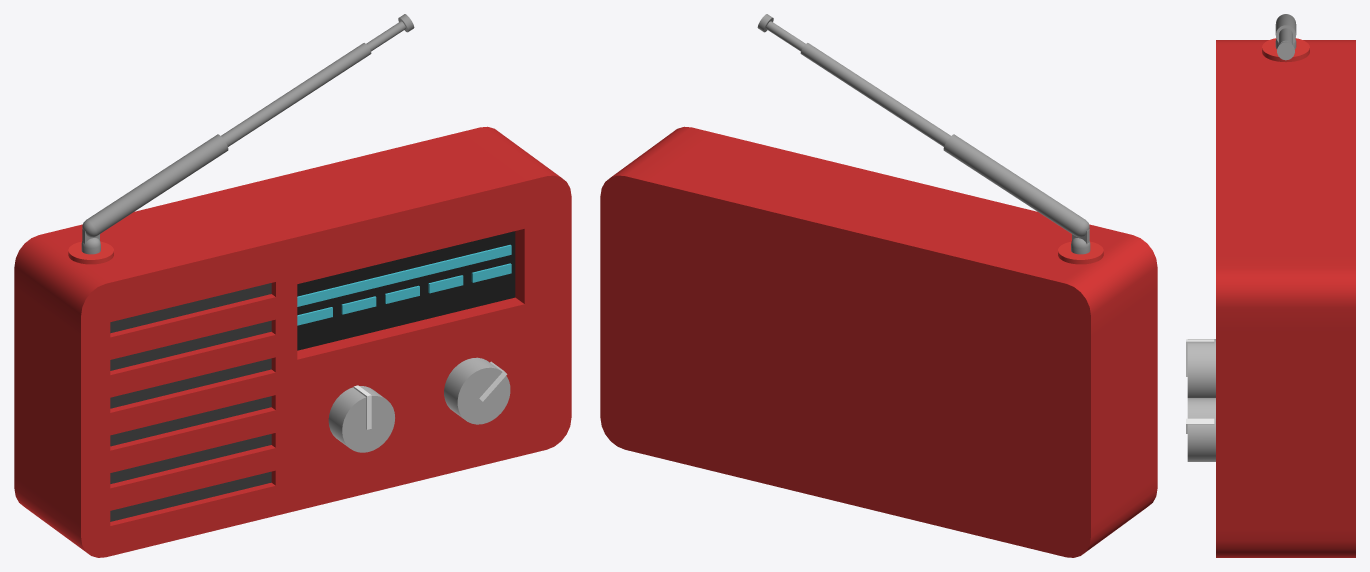
The model's file is radio.gltf.
3 renders of one model, left to right at view 1: azimuth 30°, elevation 25°; view 2: azimuth 150°, elevation 25°; view 3: azimuth 270°, elevation 25°, orthographic. The views are drawn at different scales.
Visible parts, largest first — view 1: Cube.910; view 2: Cube.910; view 3: Cube.910.
Boxes of the visible parts, <box> form: Cube.910: <box>14,14,571,557</box>; Cube.910: <box>600,14,1157,557</box>; Cube.910: <box>1186,14,1355,557</box>.
Size of the model in its own units: 2.29 by 1.95 by 0.6535.
1 material, 1 textured.
